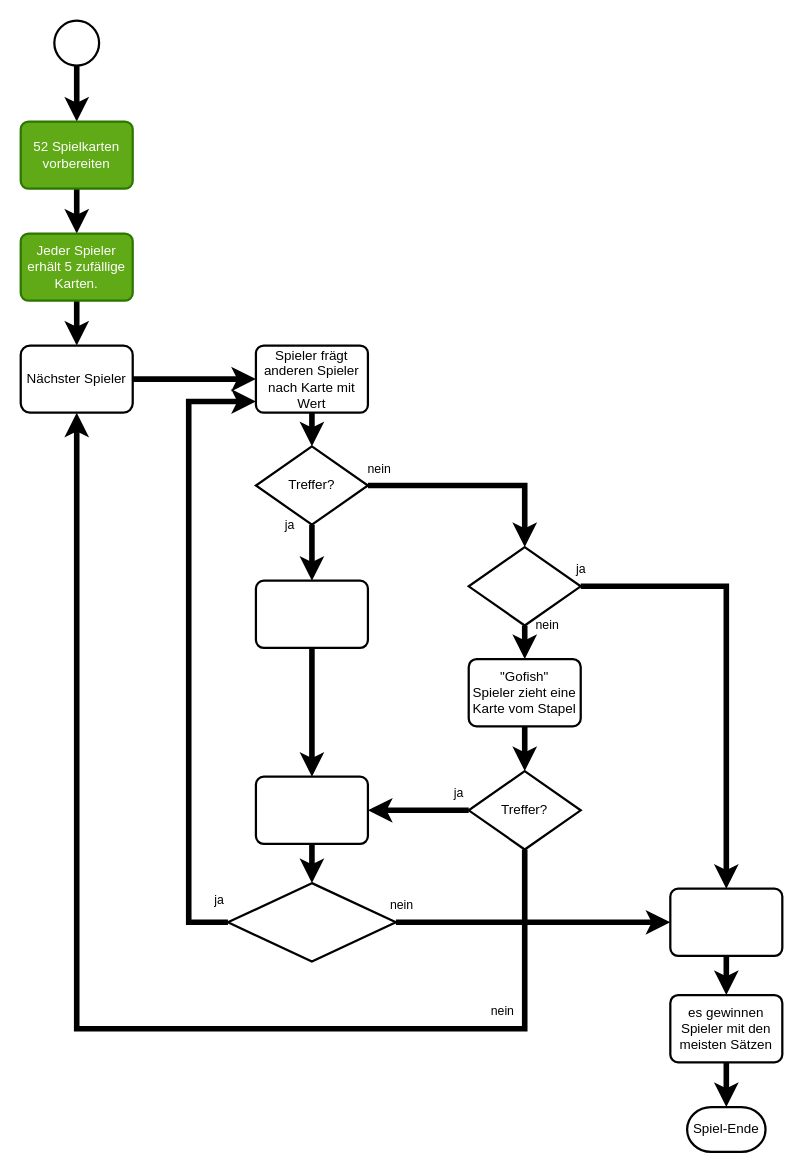
Some shapes in this 802 by 1172 pixel diagram are drawn without their labels. The centre of each missing label's shape, as x and y in pixels:
alle Karten mit dem Wert dem Spieler geben: (x=311, y=613)
ggf legt Spieler vollständige Sätze vor sich ab: (x=311, y=809)
haben alle Spieler noch Karten?: (x=311, y=921)
Jeder Spieler zählt seine Kartensätze.: (x=726, y=921)
Stapel leer?: (x=524, y=585)
